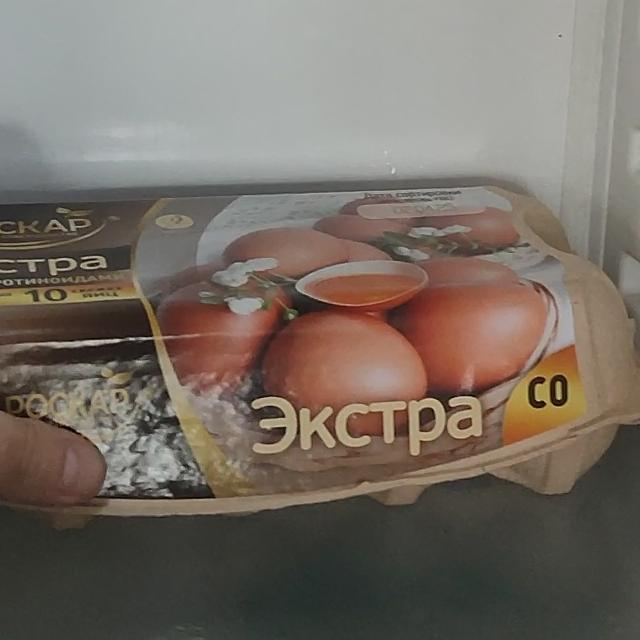egg: (0, 189, 622, 534)
